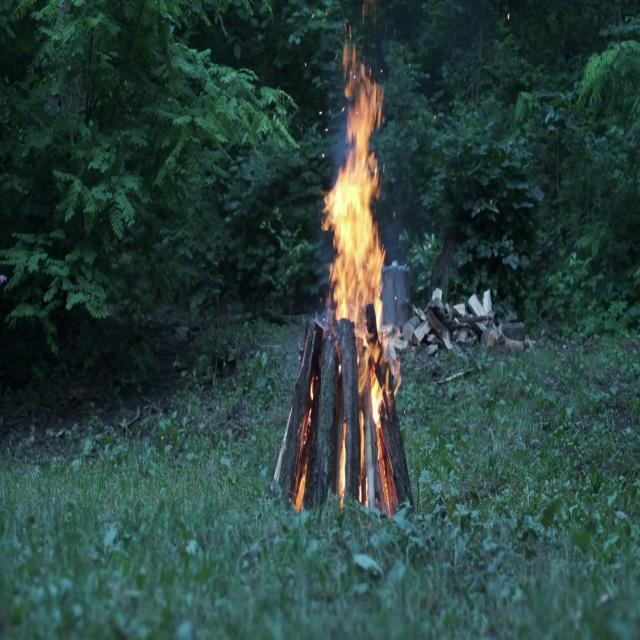Fire: (312, 50, 408, 448)
